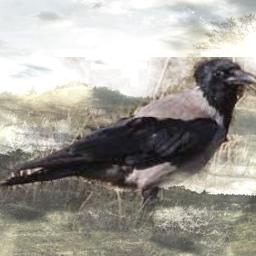Crow: (0, 57, 256, 230)
